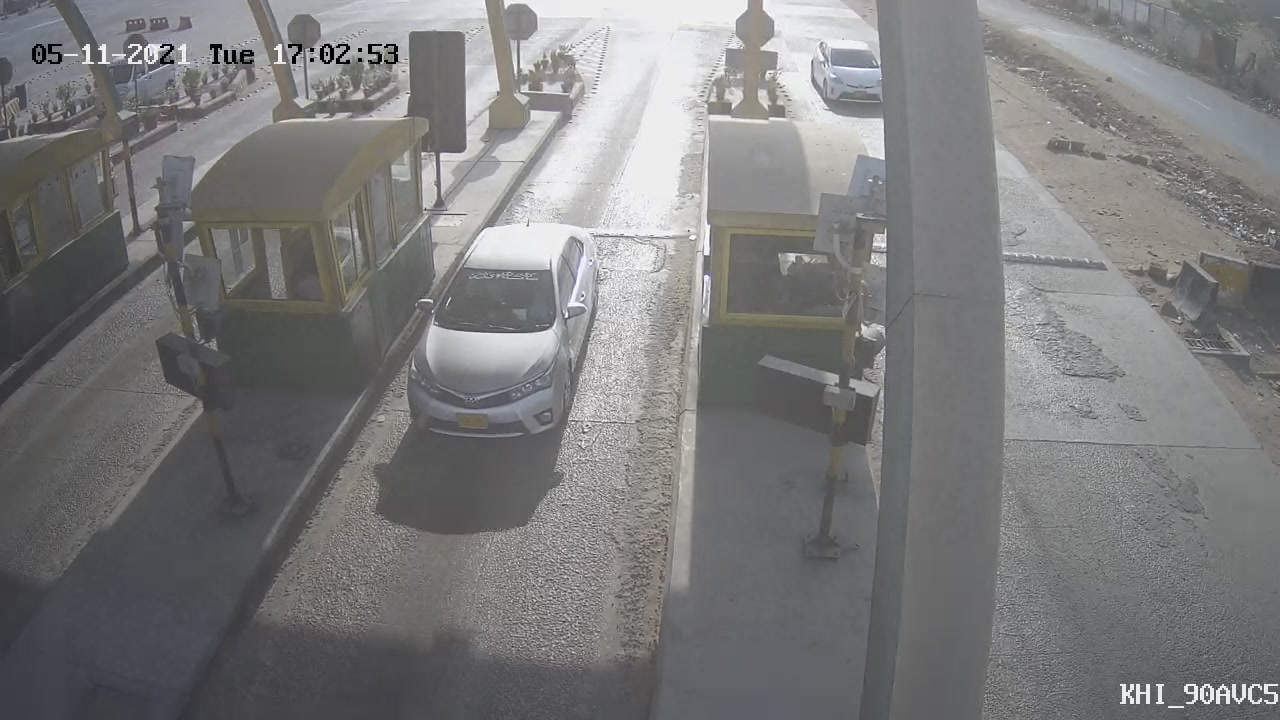F1: (378, 199, 626, 469)
